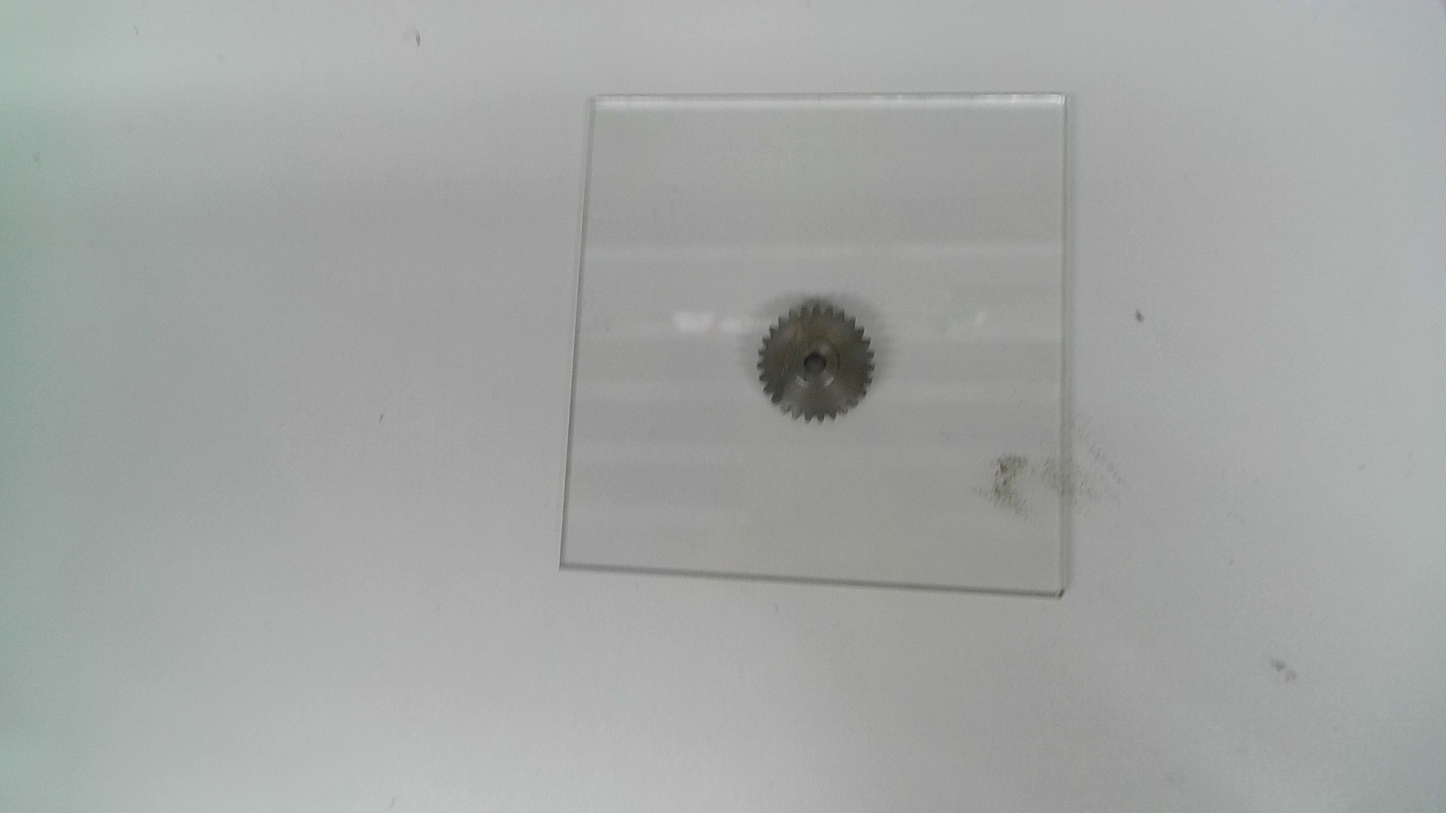gear: (753, 301, 876, 426)
